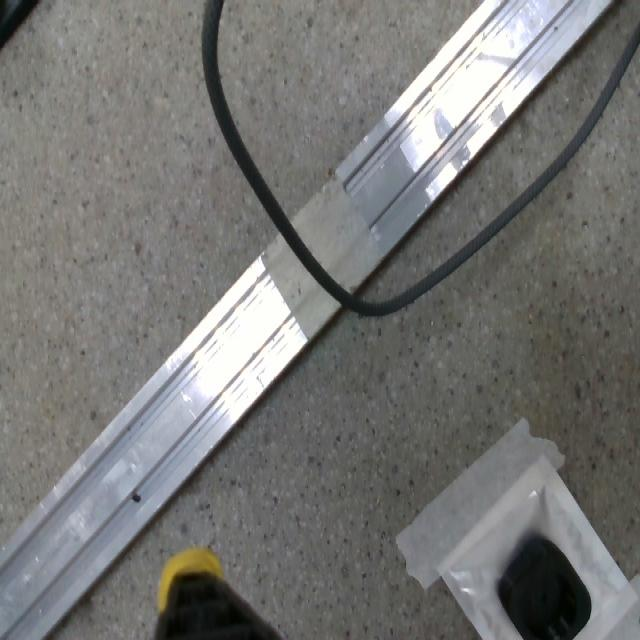cell: (497, 534, 592, 639)
